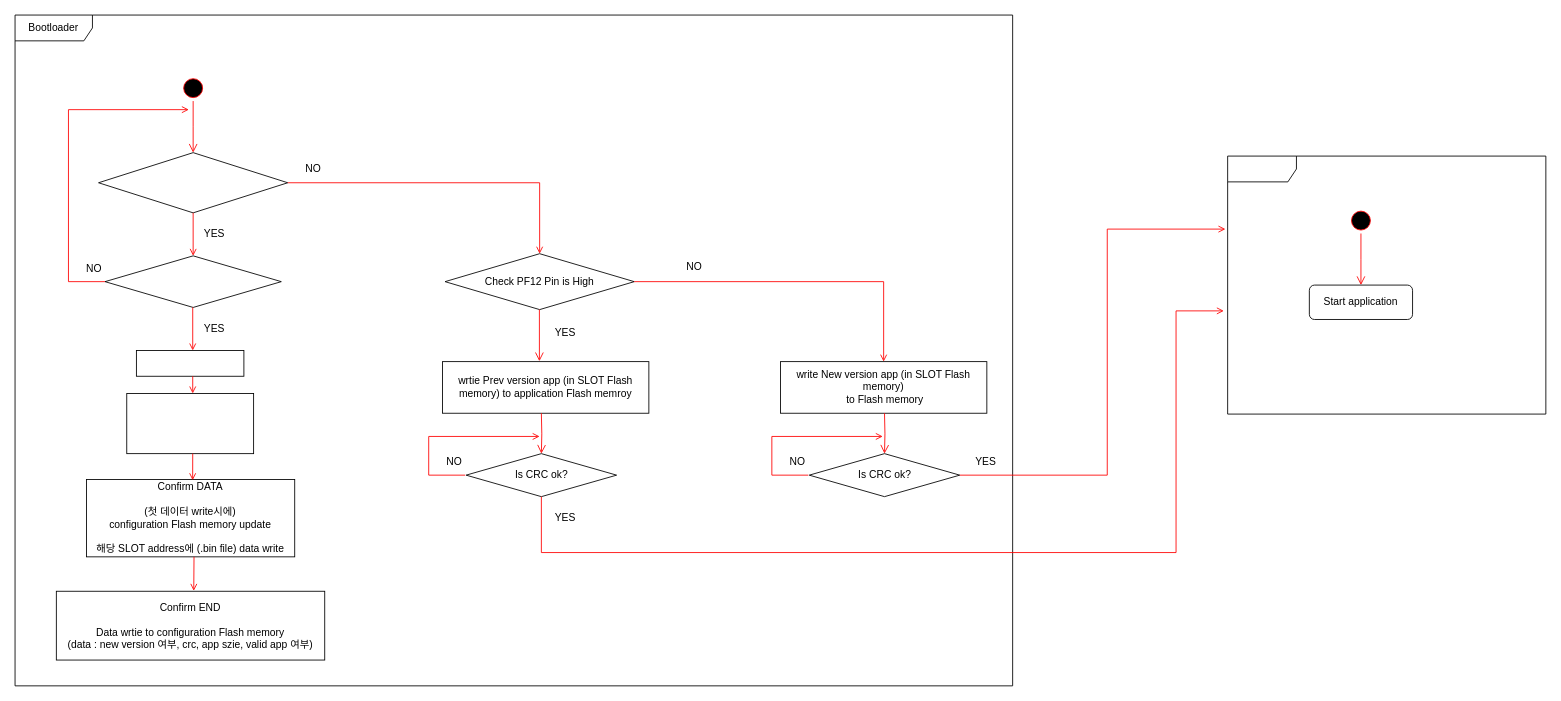
The diagram is 1561 pixels wide and 701 high, and some of its shapes have lost their labels. Here are the shapes that lost their labels. From the top down, the box of each, then its label:
(98, 152, 288, 213): Check PF11 Pin interrupt (in 1 sec)
(104, 255, 281, 307): Check Uart interrupt
(1227, 155, 1546, 414): Application
(136, 350, 244, 376): Confirm START
(126, 393, 254, 454): Confirm HEAD 사용할 SLOT 선택 (SLOT0 혹은 SLOT1)
